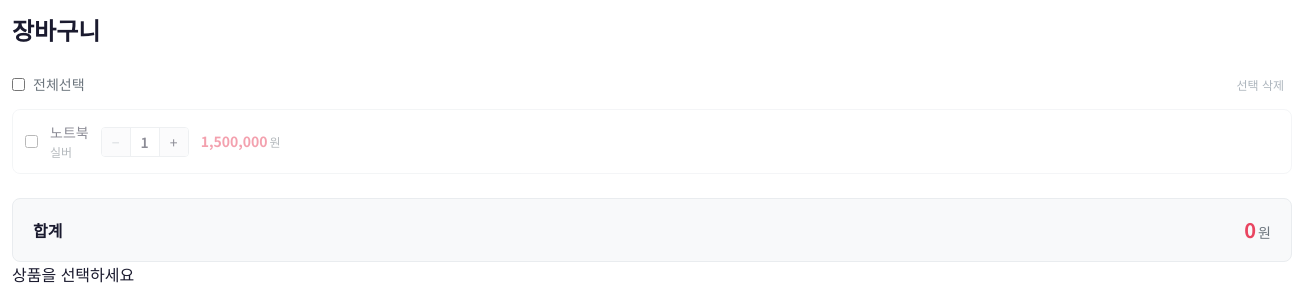
CartSummary › 전체 삭제 버튼으로 장바구니를 비운다
Expected: the text "노트북" is shown, [50,122,89,143]
Click the checkbox labelled "전체선택". click: (18, 84)
box: [12,78,25,91]
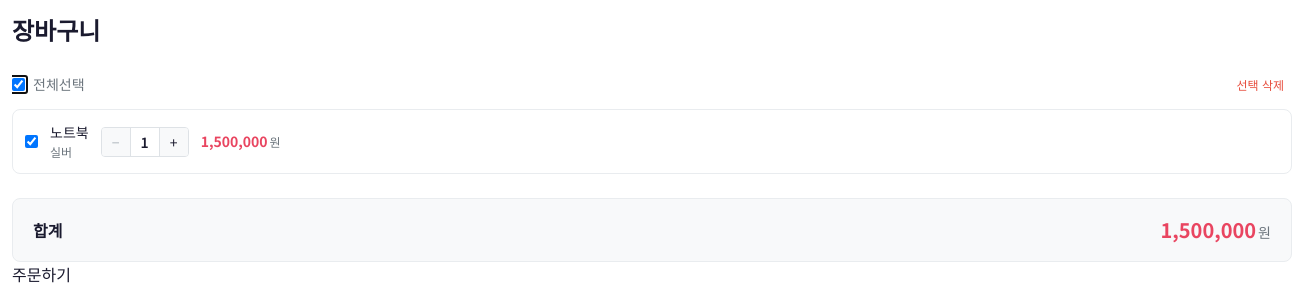
Click the button "선택 삭제". click: (1260, 84)
box: [1228,72,1292,97]
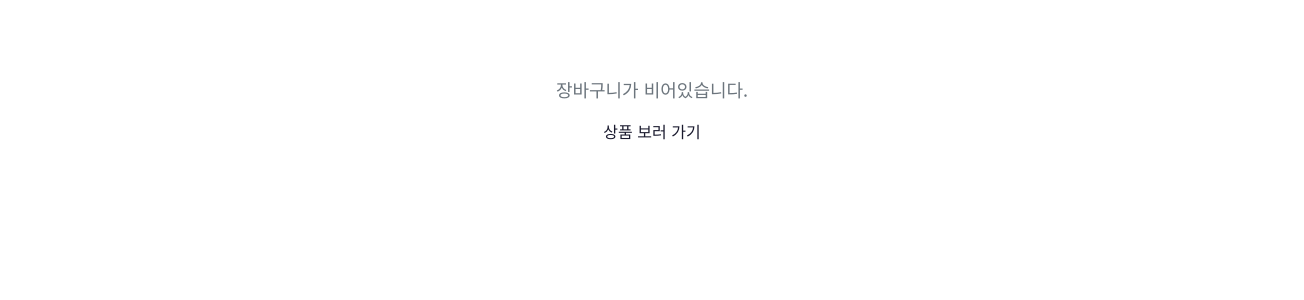
Now the text "장바구니가 비어있습니다." is shown, box [556,76,748,102]
